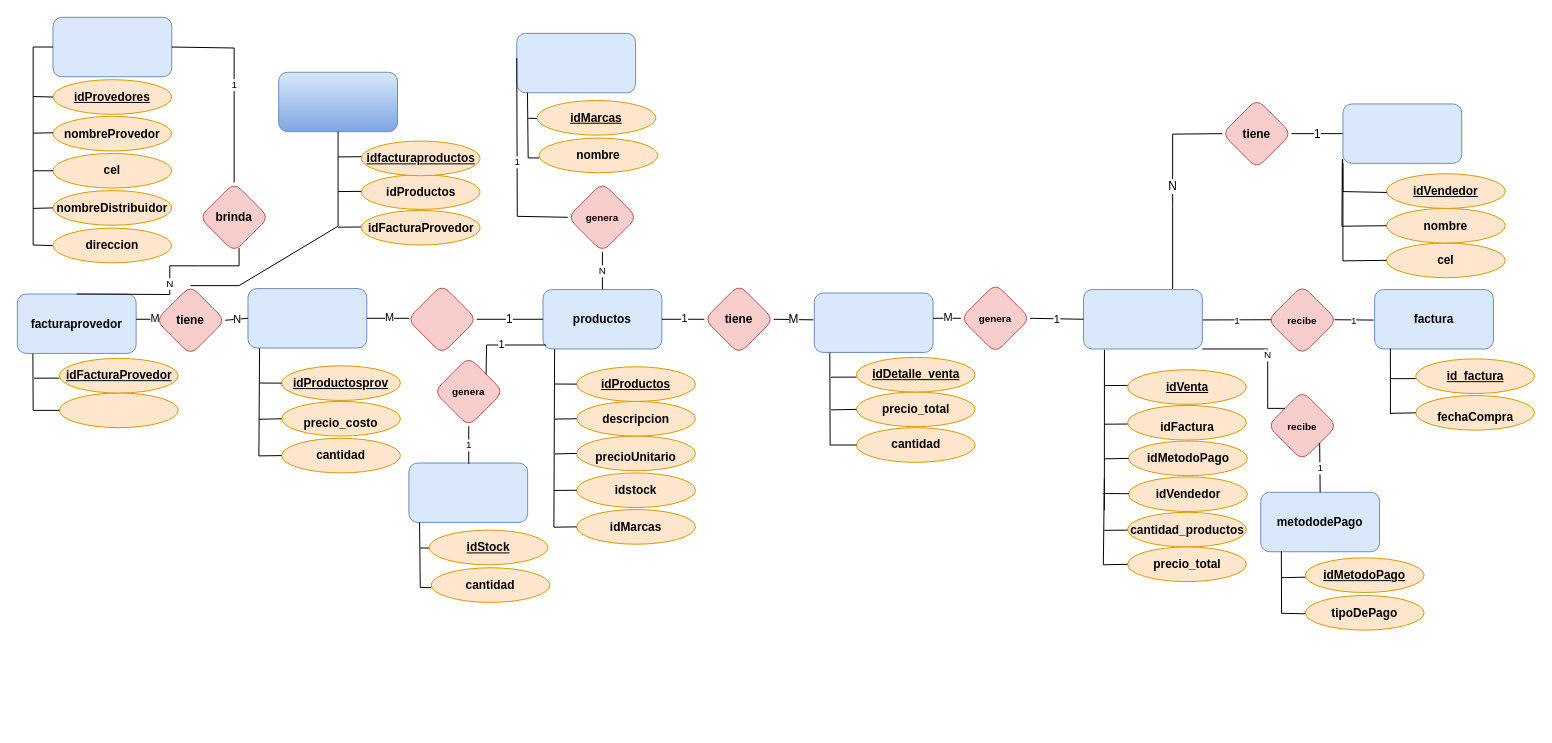
The diagram is 1552 pixels wide and 743 high, and some of its shapes have lost their labels. Here are the shapes that lost their labels. From the top down, the box of each, then its label:
(52, 16, 172, 77): provedores
(516, 32, 636, 93): marcas
(278, 71, 397, 132): factura_productos
(1342, 103, 1462, 163): vendedor
(247, 288, 367, 348): productosprov
(406, 284, 477, 354): es
(813, 292, 933, 352): detalle_venta
(1083, 289, 1202, 349): venta
(58, 392, 178, 428): fecha_compra
(408, 462, 528, 522): stock
